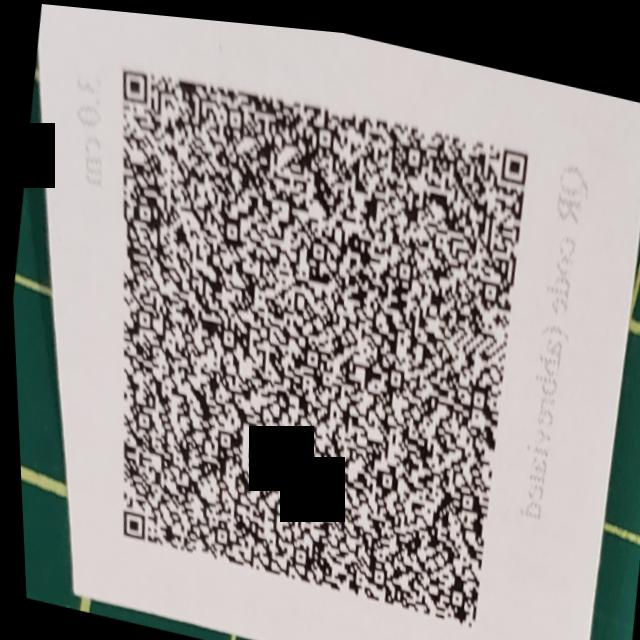QR_CODE: (42, 34, 567, 640)
